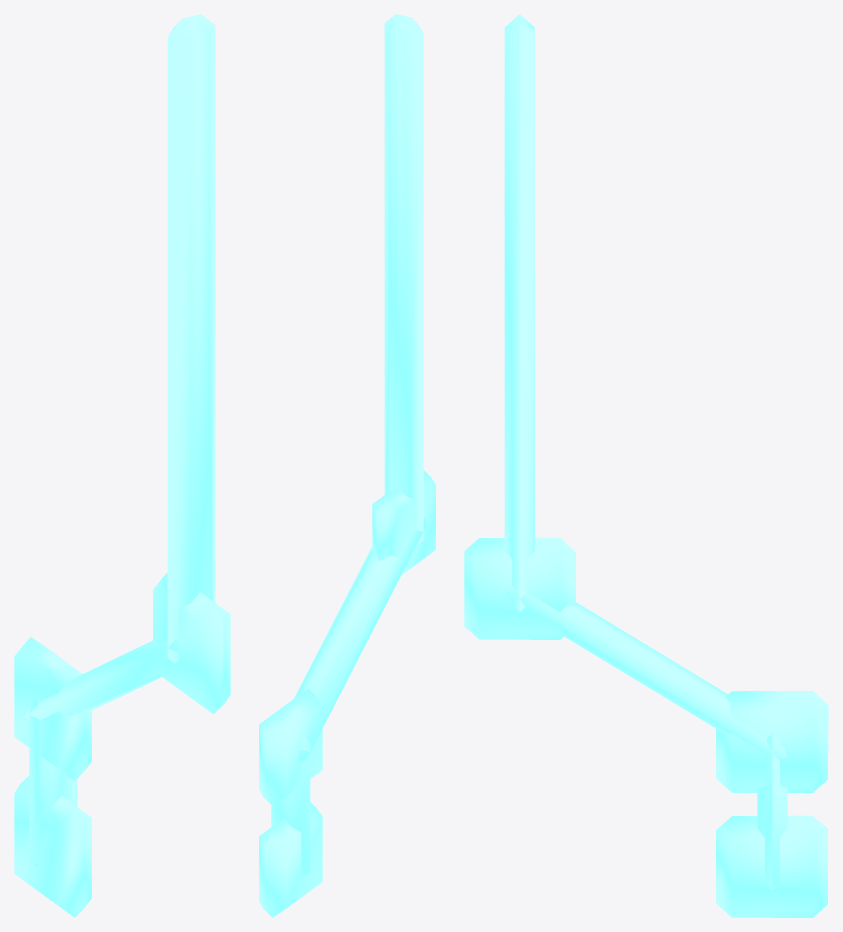
The model's file is Estela_AntebrazoIzq_Neon.fbx.
3 renders of one model, left to right at view 1: azimuth 30°, elevation 25°; view 2: azimuth 150°, elevation 25°; view 3: azimuth 270°, elevation 25°, orthographic. The views are drawn at different scales.
Visible parts, largest first — view 1: Estela_AntebrazoIzq_Neon; view 2: Estela_AntebrazoIzq_Neon; view 3: Estela_AntebrazoIzq_Neon.
Boxes of the visible parts, box(x1,y1,x2,y2) form: Estela_AntebrazoIzq_Neon: box(14, 14, 230, 917); Estela_AntebrazoIzq_Neon: box(259, 14, 435, 917); Estela_AntebrazoIzq_Neon: box(464, 14, 828, 917).
Bounding box in the file's own units: 0.05 × 0.984 × 0.3613.
